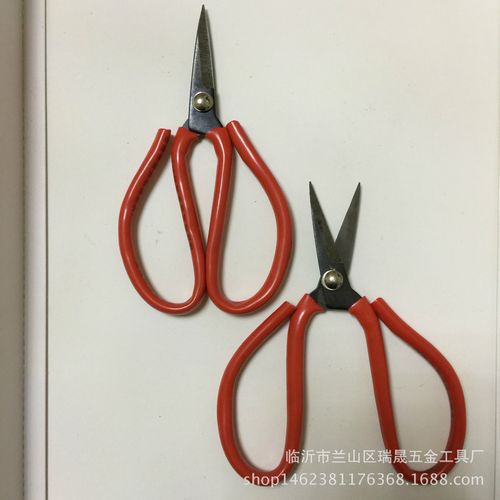scissor: (214, 178, 469, 487), (87, 4, 297, 318)
